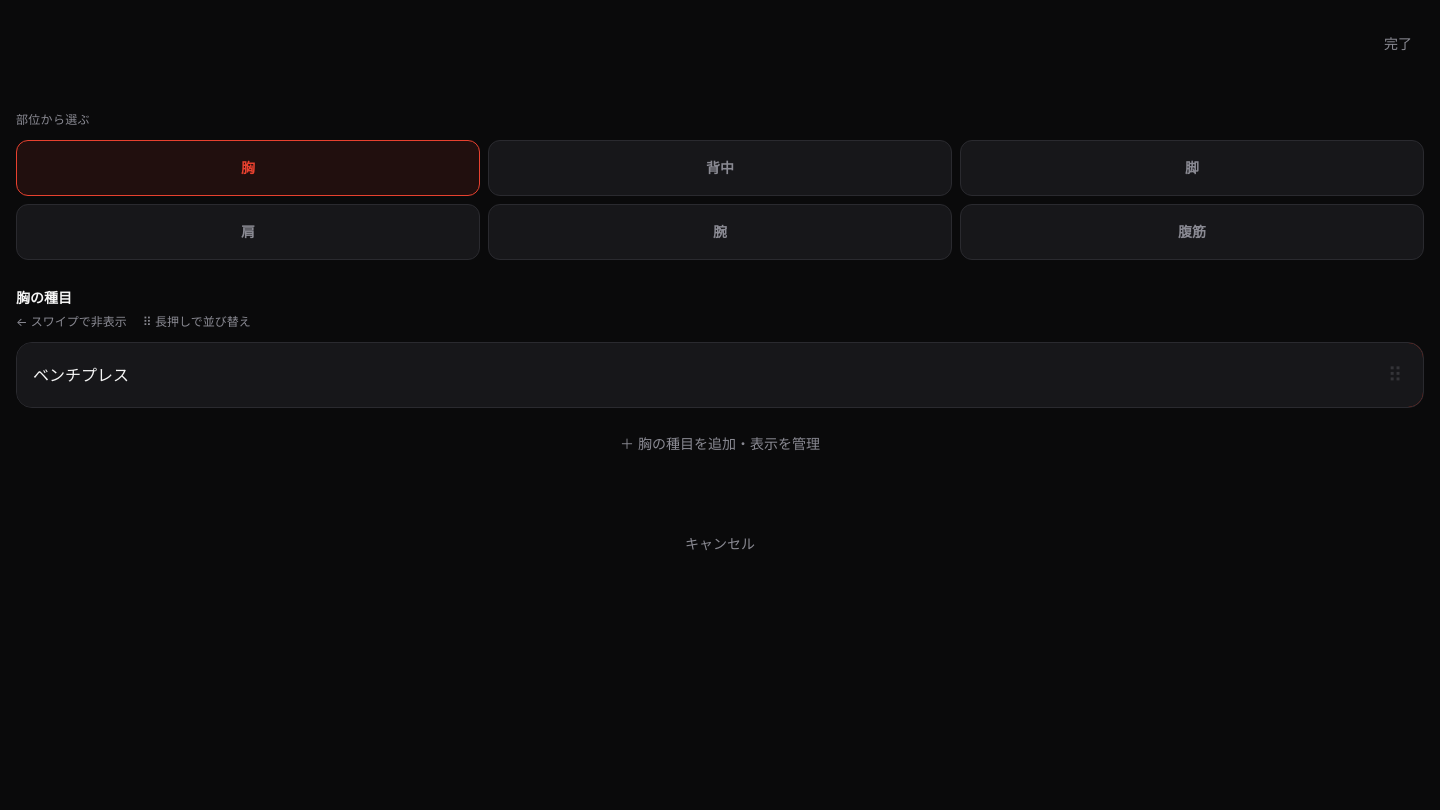
Test case: WorkoutEditorPage › creates a backdated record only when the first set is saved and retries the same set ID
Click the button "ベンチプレス" at {"x": 81, "y": 375}, box [17,343,1367,407]
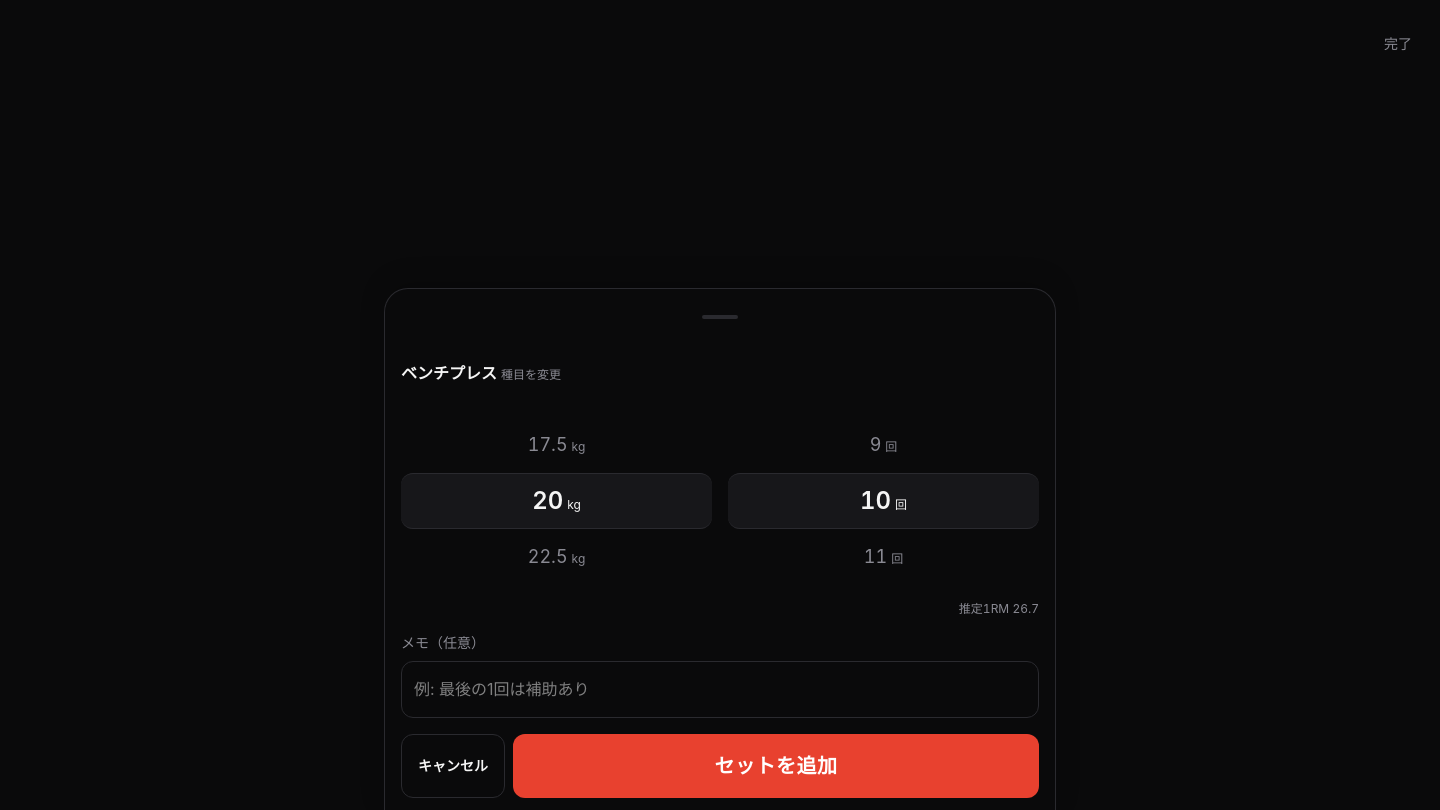
Click the button "セットを追加" at {"x": 776, "y": 766}, box [513,734,1039,798]
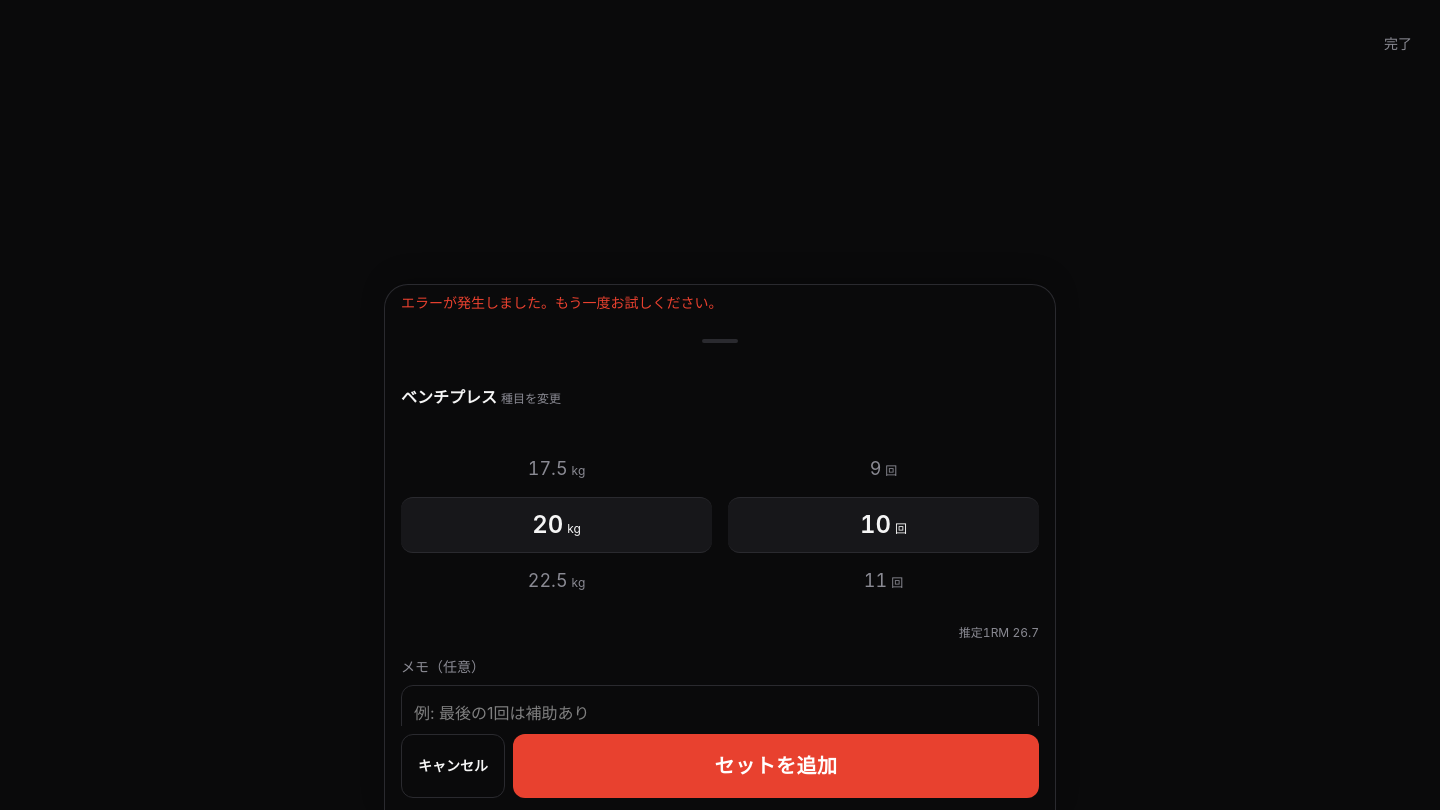
Expected: the message "エラーが発生しました。もう一度お試しください。" is shown, [401,294,723,310]
Click the button "セットを追加" at {"x": 776, "y": 766}, box [513,734,1039,798]
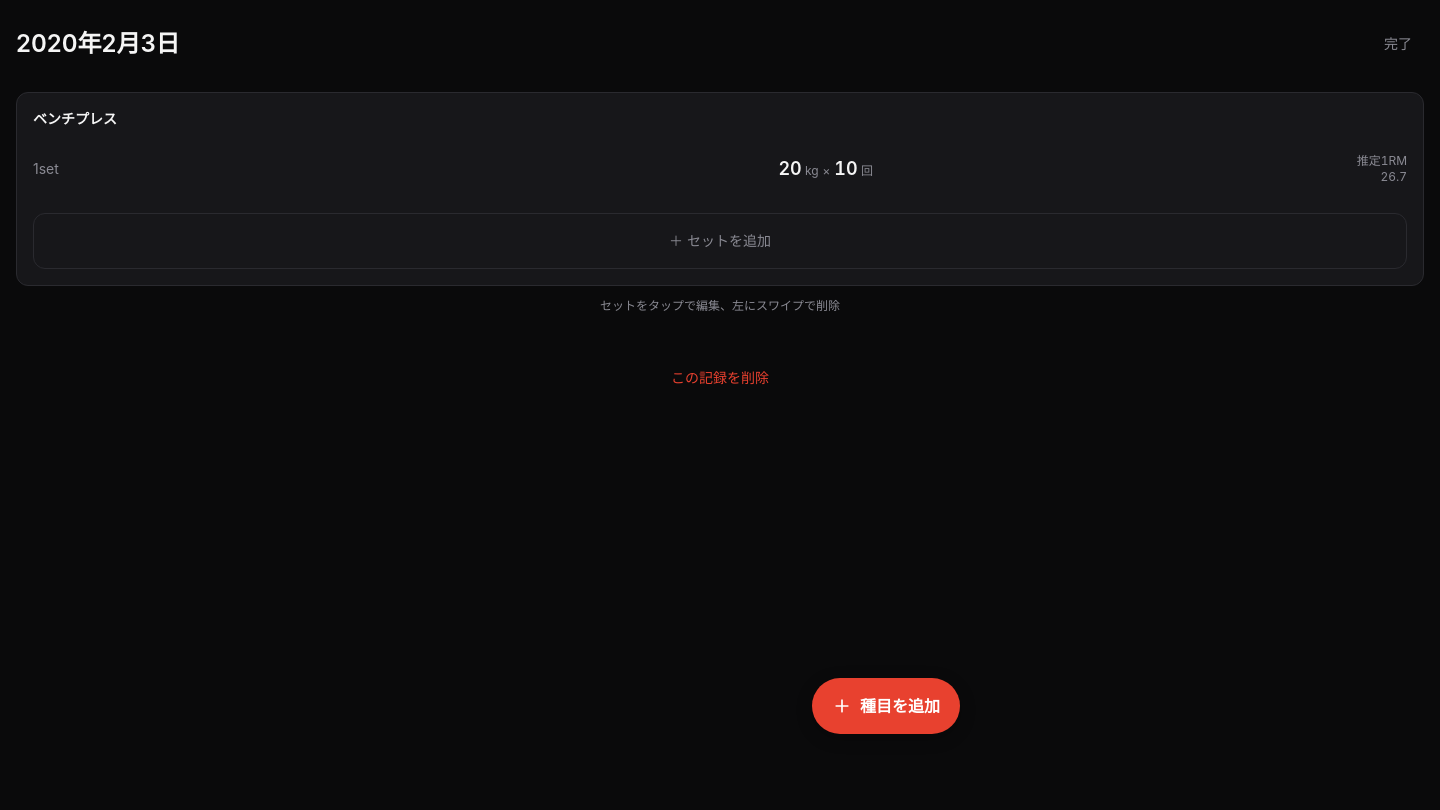
Expected: the button with aria-label "20kg 10回を編集" is shown, [33,141,1407,197]
